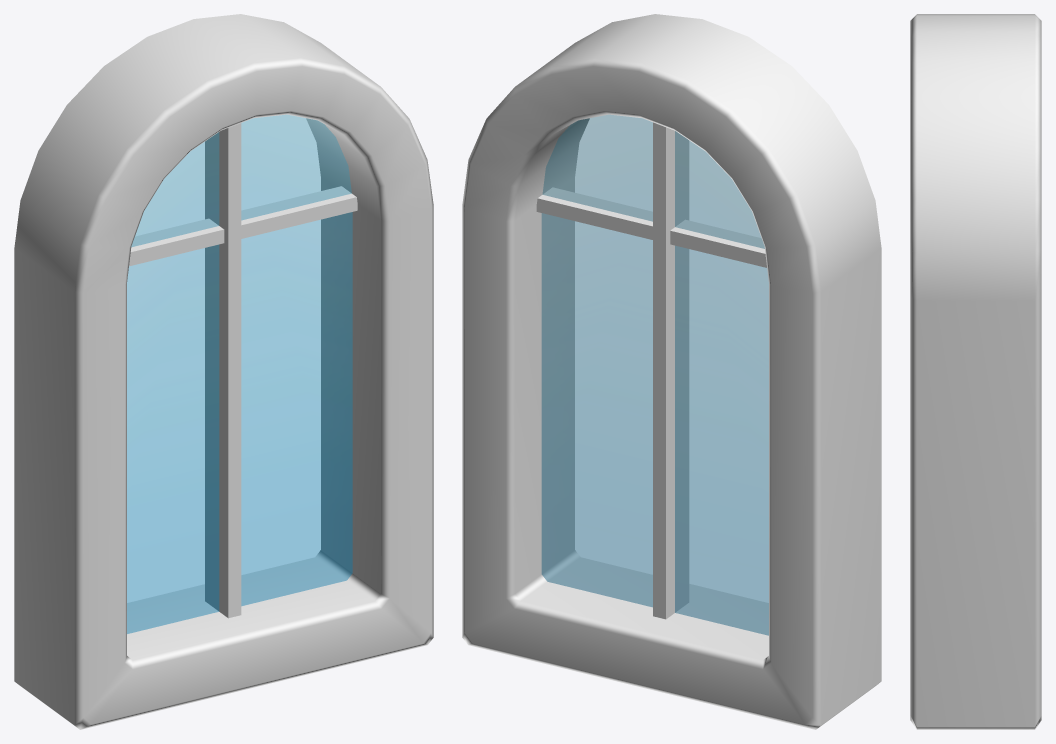
Rendered from Window_White_16.glb.
The picture shows the model from 3 angles, left to right: view 1: azimuth 30°, elevation 25°; view 2: azimuth 150°, elevation 25°; view 3: azimuth 270°, elevation 25°; orthographic projection.
Visible parts, largest first — view 1: Window_White_16; view 2: Window_White_16; view 3: Window_White_16.
Part boxes in pixels (x1,y1,x2,y2): Window_White_16: [14, 14, 433, 729]; Window_White_16: [462, 14, 881, 729]; Window_White_16: [910, 14, 1041, 729].
Bounding box in the file's own units: 1.24 × 2.07 × 0.4.
2 materials, 2 textured.
